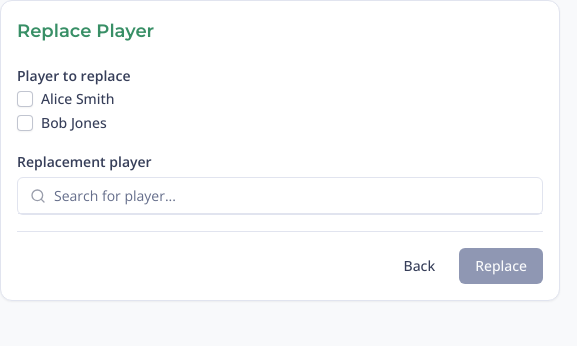
Test: Replace button enabled after selecting source and searching for target
The image size is (577, 346).
// Select source player (single-select)
Click the checkbox named "Bob Jones" next to "Bob Jones" at (25, 123), box 17,115 -> 33,131
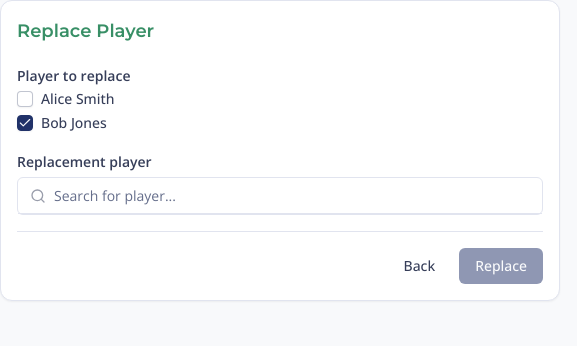
// Search for replacement in player picker
Type "Charlie" into the dropdown with placeholder "Search for player..." at (292, 196), box 54,176 -> 530,216
Wait 350 ms
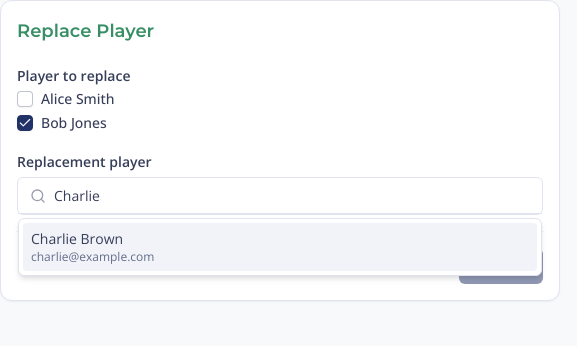
Expected: the text "Charlie Brown" is shown
// Select Charlie
Click the text "Charlie Brown" at (77, 238), box 31,229 -> 123,248
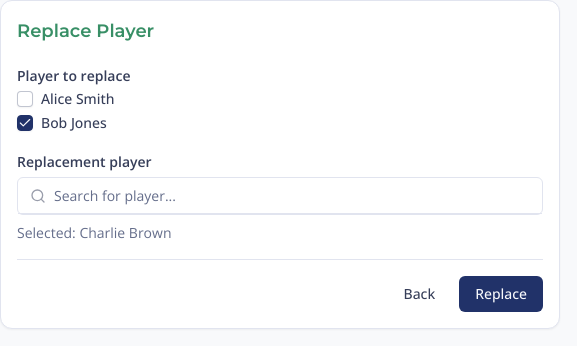
Expected: the button "Replace" is enabled, 459,276 -> 543,312
